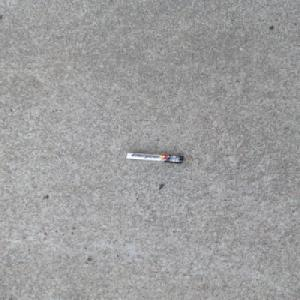Battery: (123, 151, 185, 164)
